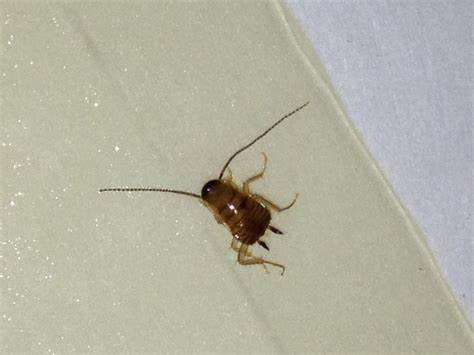cockroach: (196, 170, 288, 259)
